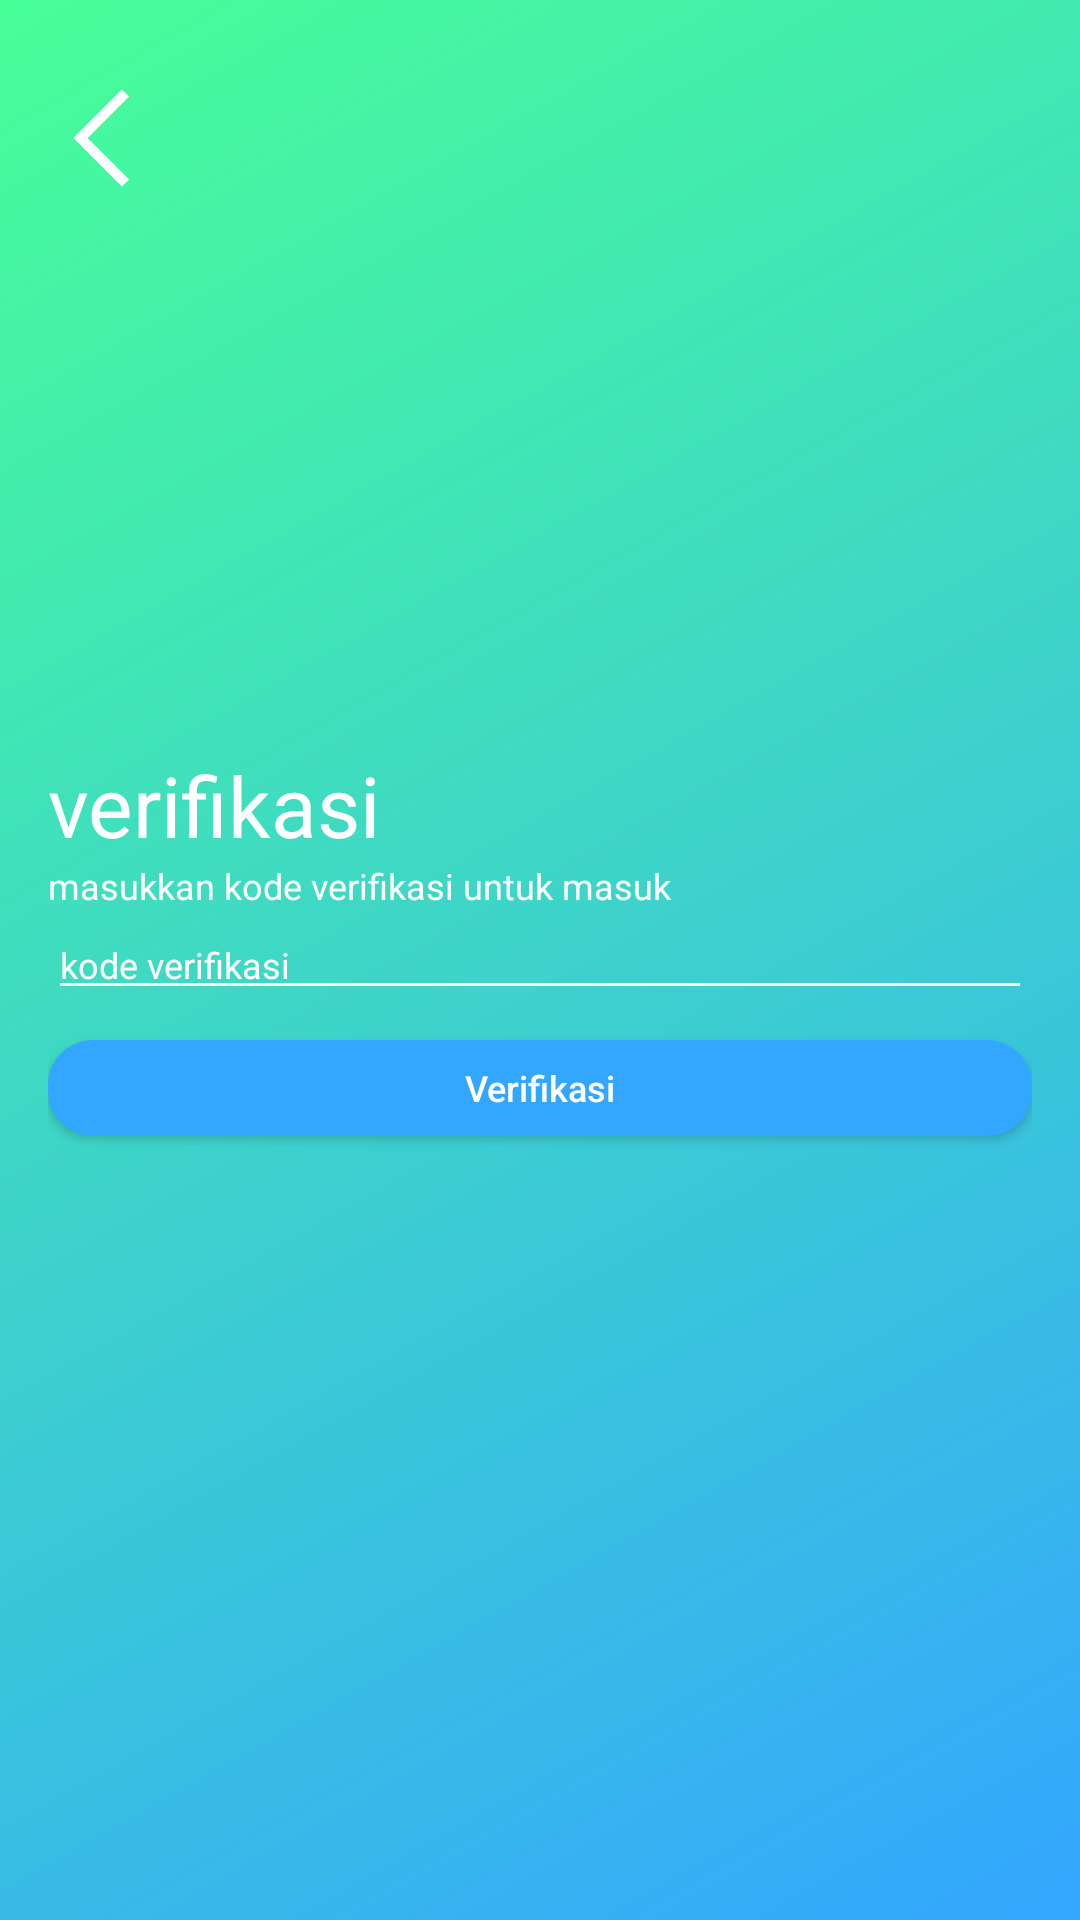

Icon bounding boxes for this 1080px×1920px phone screenshot, format (x1, y1, x2, y2):
back: (73, 89, 129, 187)
